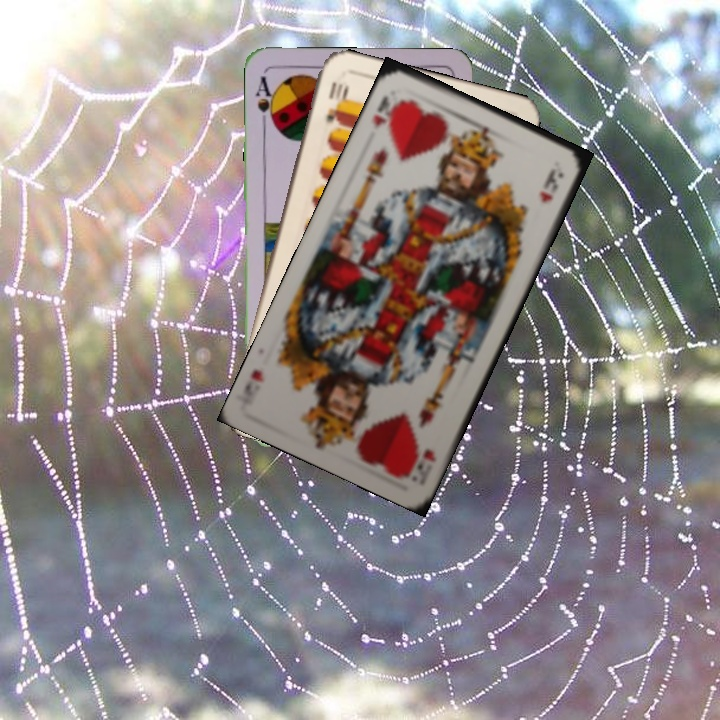E10: (322, 77, 348, 126)
HK: (368, 91, 404, 132), (412, 445, 439, 480)
SA: (251, 72, 278, 131)
